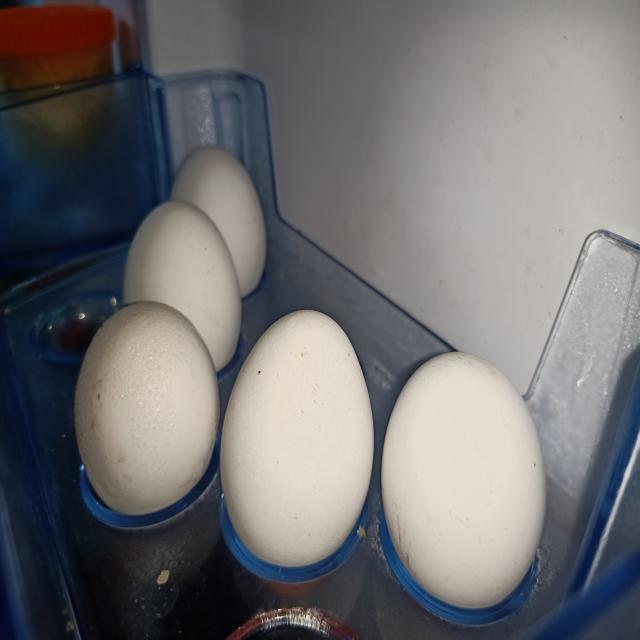Egg: (382, 352, 546, 609), (220, 310, 374, 567), (74, 301, 219, 515), (123, 200, 241, 370), (171, 146, 266, 296)
